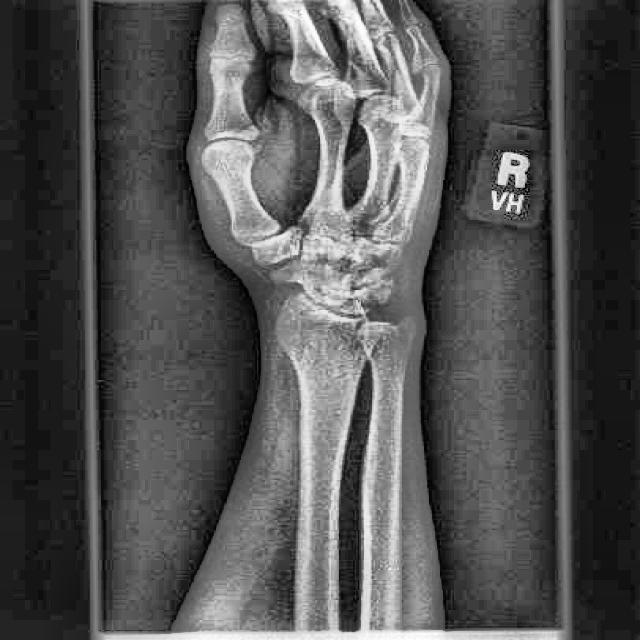fingers positive: (345, 269, 414, 302)
